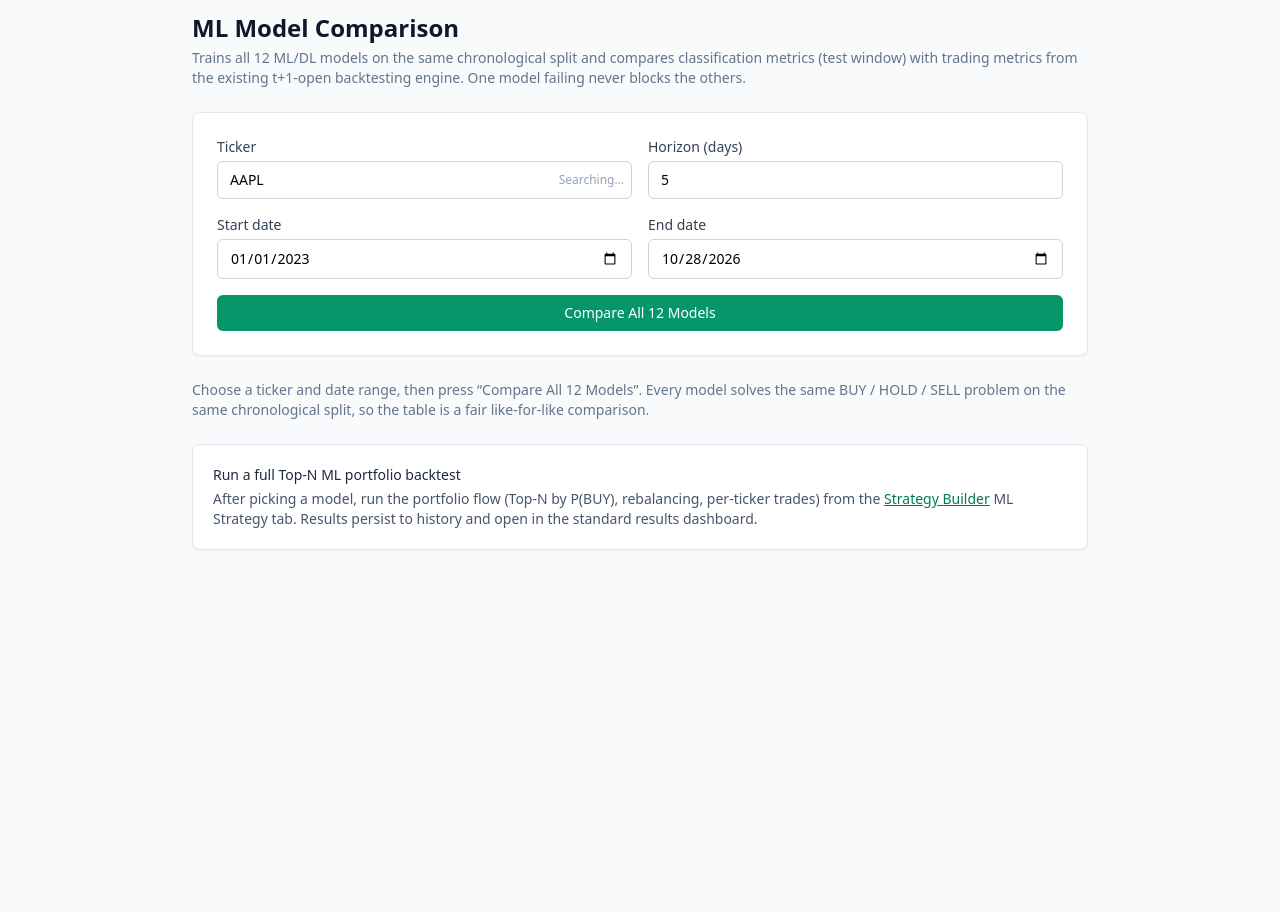
Scenario: MLComparisonPage › runs the comparison and renders the unified table + failures
The width and height of the screenshot is (1280, 912).
In the dropdown labelled "Ticker": (424, 180) [217,161,632,199], type "X"
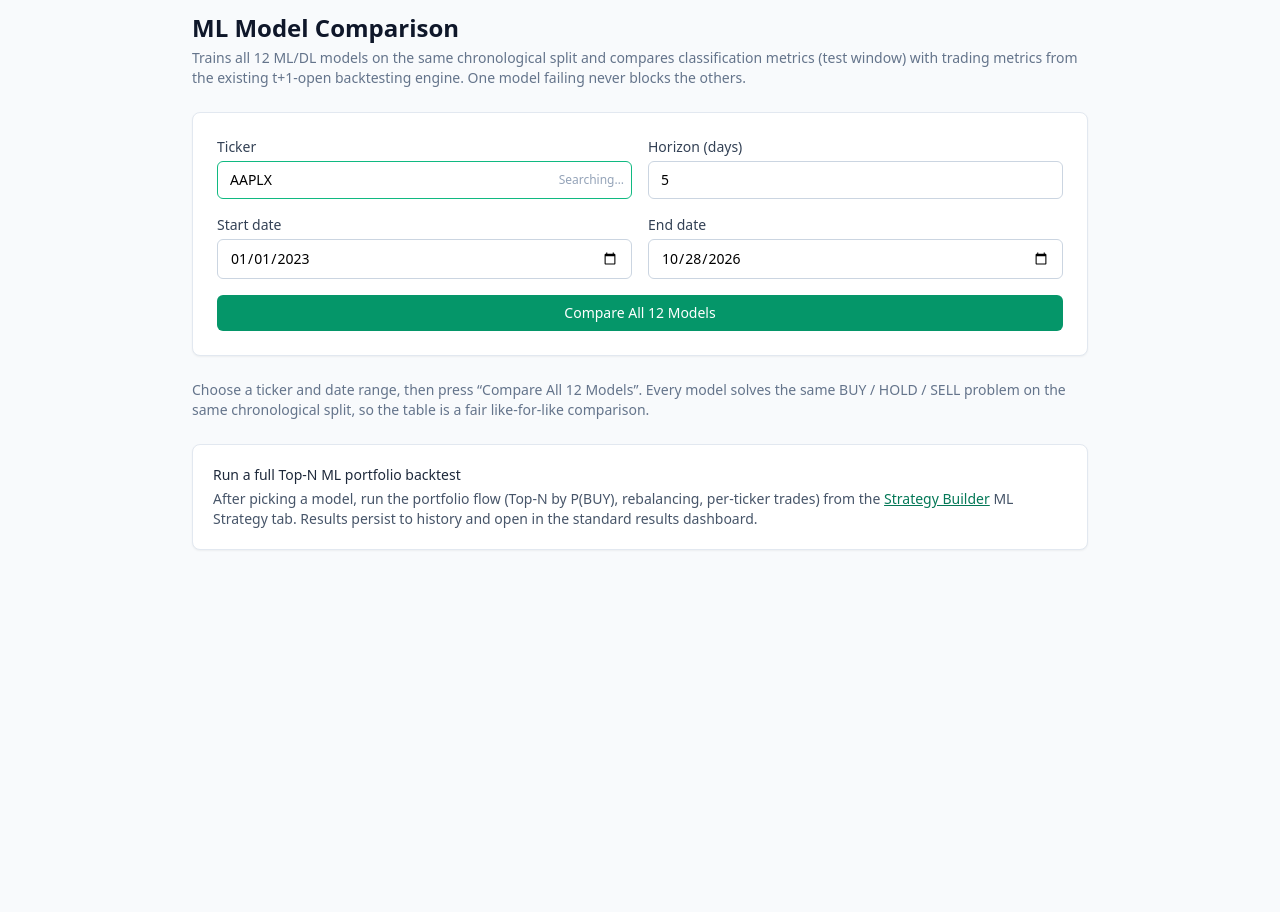
Click the button "Compare All 12 Models": click(640, 313) [217,295,1063,331]
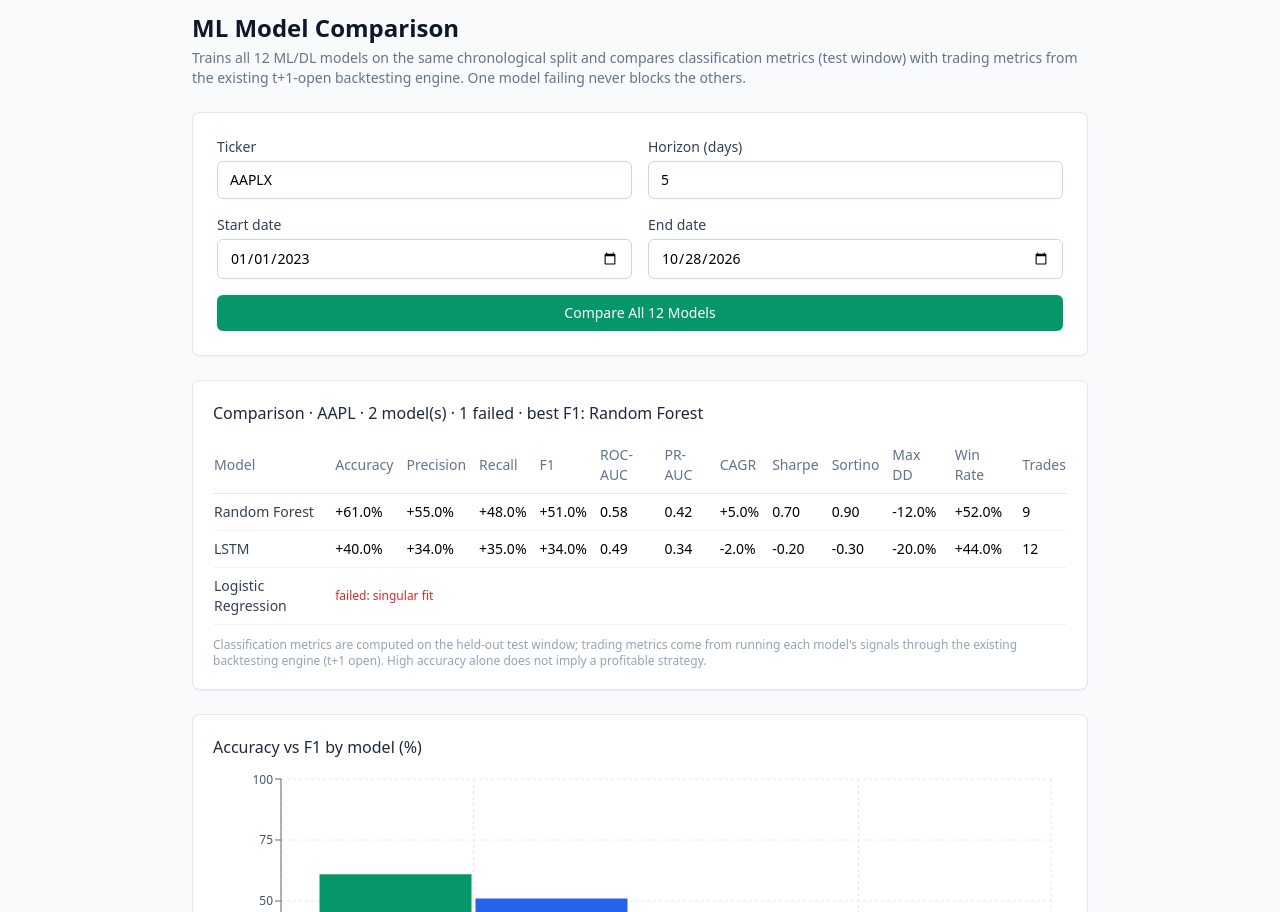
Now the heading "Comparison · AAPL · 2 model(s)" is shown, box [213,402,703,424]
Now the text "failed: singular fit" is shown, box [334,568,1067,624]
Now the heading "best F1: Random Forest" is shown, box [514,402,703,424]
